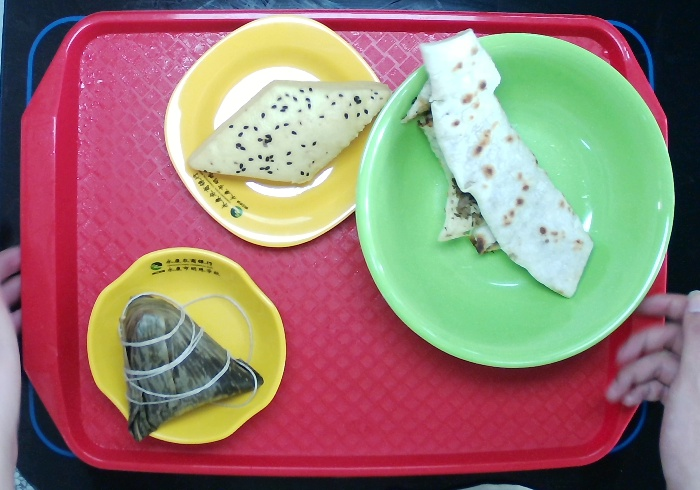YKMZ-Huang_Se_Ao_Bian_Wan: (83, 239, 297, 445)
YKMZ-Huang_Se_Fang_Die: (156, 10, 405, 262)
YKMZ-Lv_Se_Tang_Wan: (340, 26, 682, 372)
